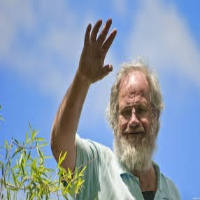ring: (90, 13, 103, 48)
